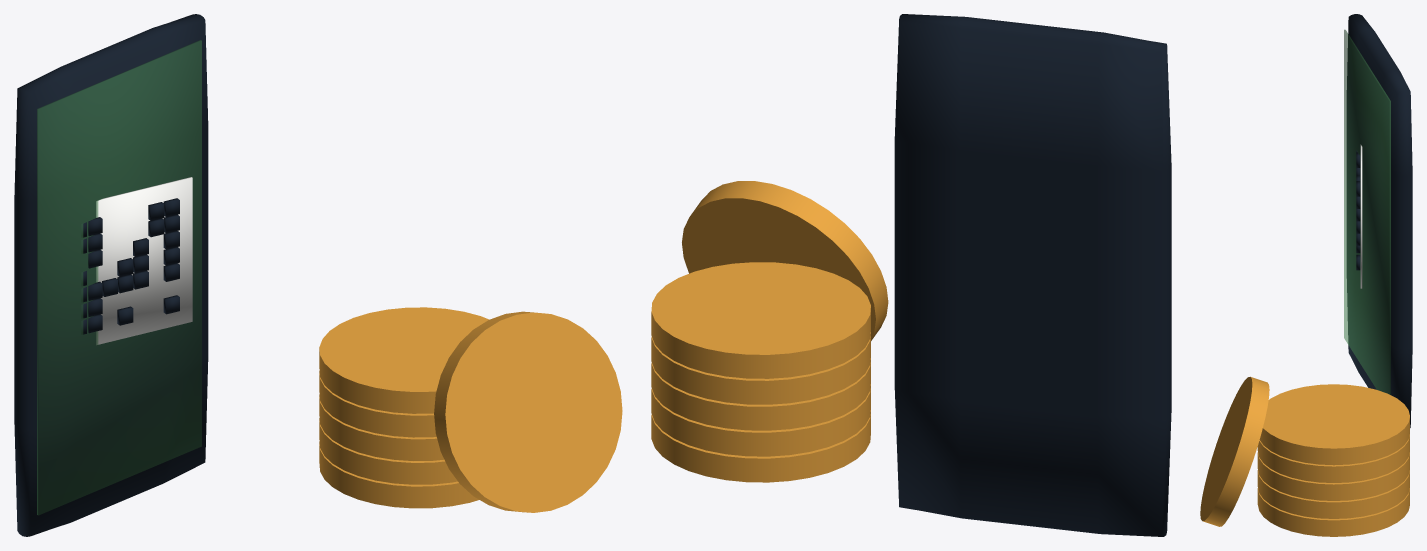
Rendered from ph_payments.glb.
3 renders of one model, left to right at view 1: azimuth 30°, elevation 25°; view 2: azimuth 150°, elevation 25°; view 3: azimuth 270°, elevation 25°, orthographic. The views are drawn at different scales.
Parts seen in each view (by area): view 1: ph_payments; view 2: ph_payments; view 3: ph_payments.
Part boxes in pixels (x1,y1,x2,y2): ph_payments: (14,14,622,536); ph_payments: (651,14,1171,536); ph_payments: (1200,14,1412,536).
Size of the model in its own units: 2.98 by 2.55 by 1.39.
